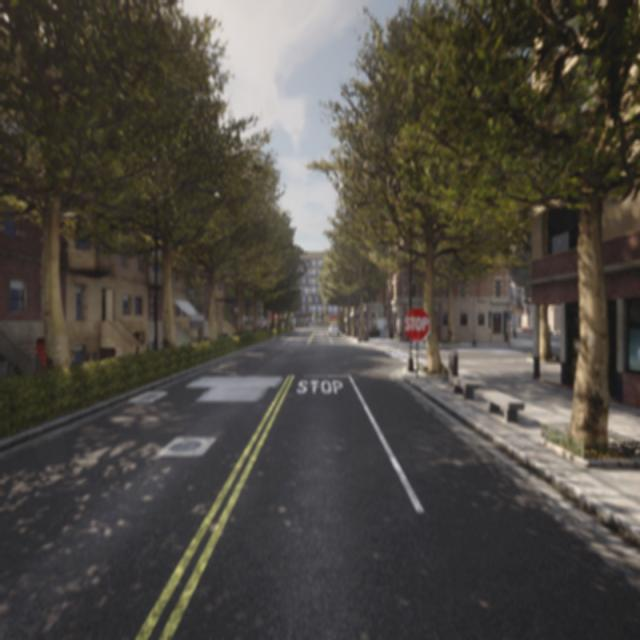stop sign: (402, 304, 431, 342), (404, 314, 429, 332)
